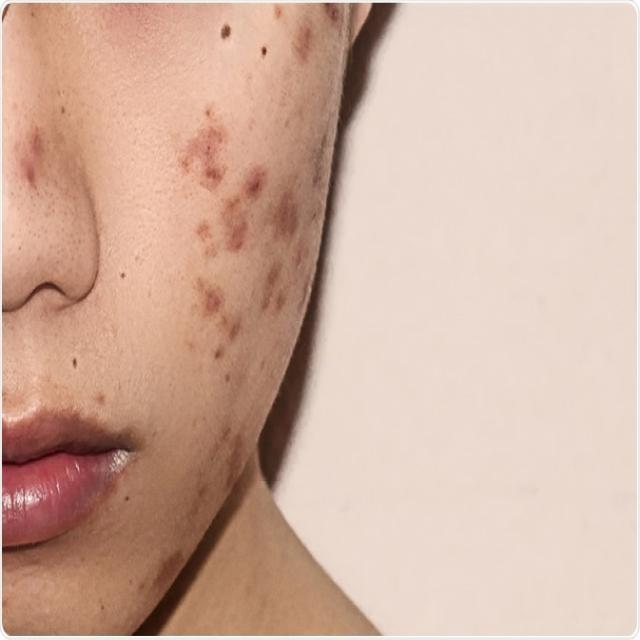Acne: (169, 105, 291, 428)
